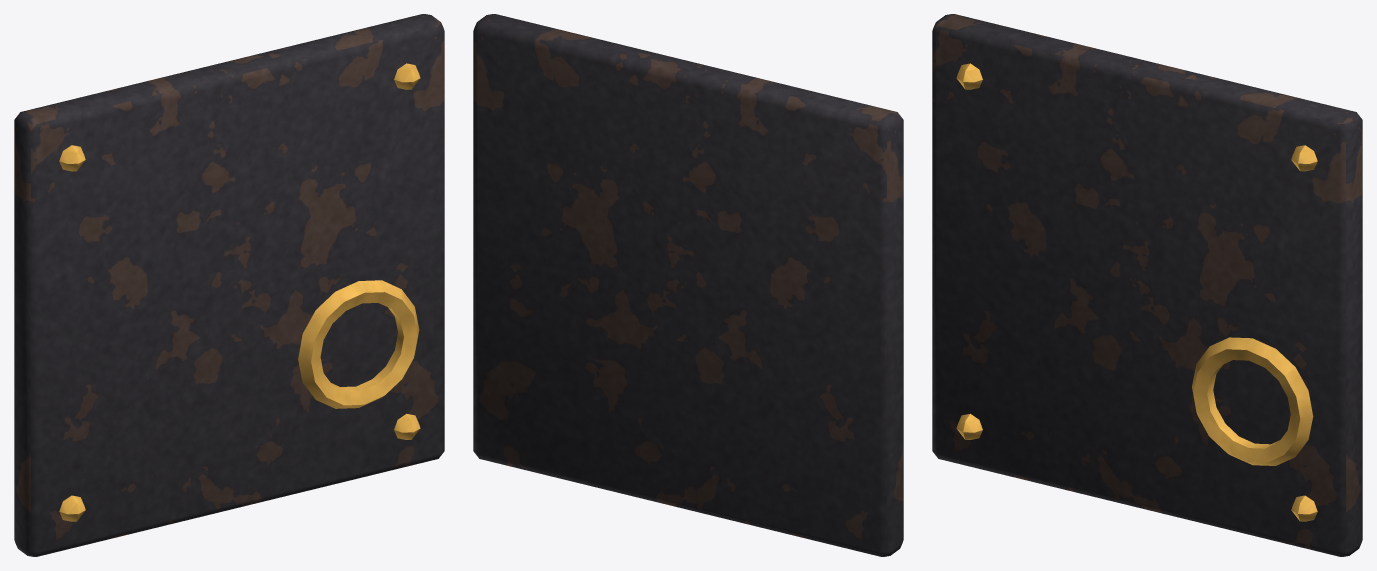
Rendered from dun_safedoor.glb.
3 renders of one model, left to right at view 1: azimuth 30°, elevation 25°; view 2: azimuth 150°, elevation 25°; view 3: azimuth 330°, elevation 25°, orthographic.
Parts seen in each view (by area): view 1: dun_safedoor_iron_0, dun_safedoor_gold_0; view 2: dun_safedoor_iron_0; view 3: dun_safedoor_iron_0, dun_safedoor_gold_0.
Part boxes in pixels (<box>): dun_safedoor_iron_0: <box>14,14,444,556</box>; dun_safedoor_gold_0: <box>59,63,420,521</box>; dun_safedoor_iron_0: <box>473,14,903,556</box>; dun_safedoor_iron_0: <box>932,14,1362,556</box>; dun_safedoor_gold_0: <box>956,63,1317,521</box>.
Bounding box in the file's own units: 1 × 1 × 0.1138.
Materials: 2 (2 with a texture image).
